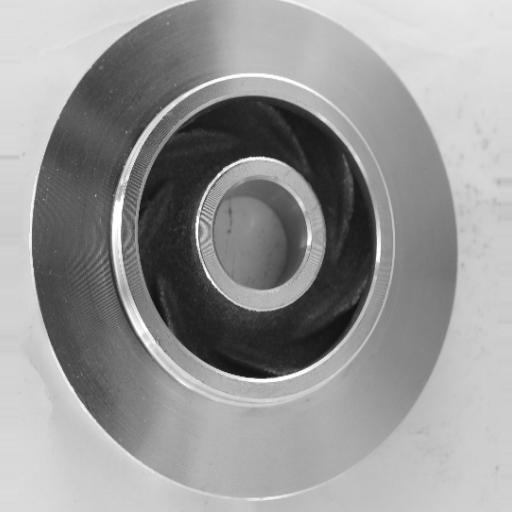polished_casting: (25, 0, 459, 501)
